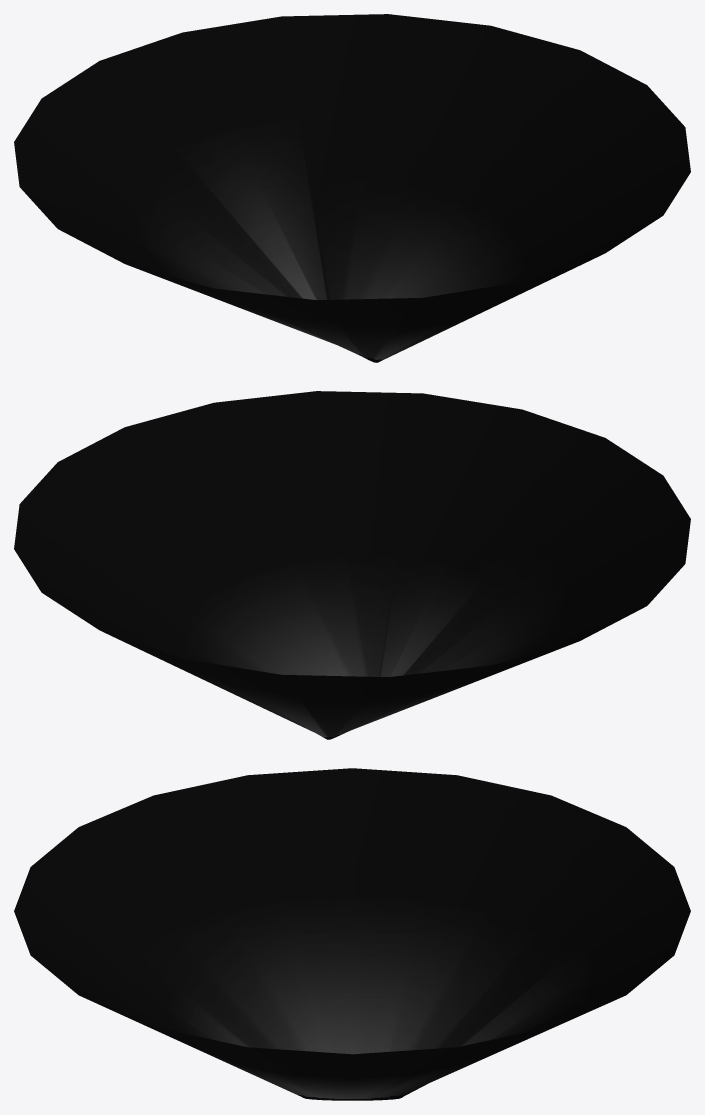
Rendered from art_PiggyVFXconeB.fbx.
3 views of the same model, one above another, from view 1: azimuth 30°, elevation 25°; view 2: azimuth 150°, elevation 25°; view 3: azimuth 270°, elevation 25° (orthographic).
Visible parts, largest first — view 1: pCone1; view 2: pCone1; view 3: pCone1.
Part boxes in pixels (box(x1,y1,x2,y2)): pCone1: box(14, 14, 690, 362); pCone1: box(14, 391, 690, 739); pCone1: box(14, 768, 690, 1100).
Bounding box in the file's own units: 3890 × 1183 × 3890.
Materials: 1 (1 with a texture image).
